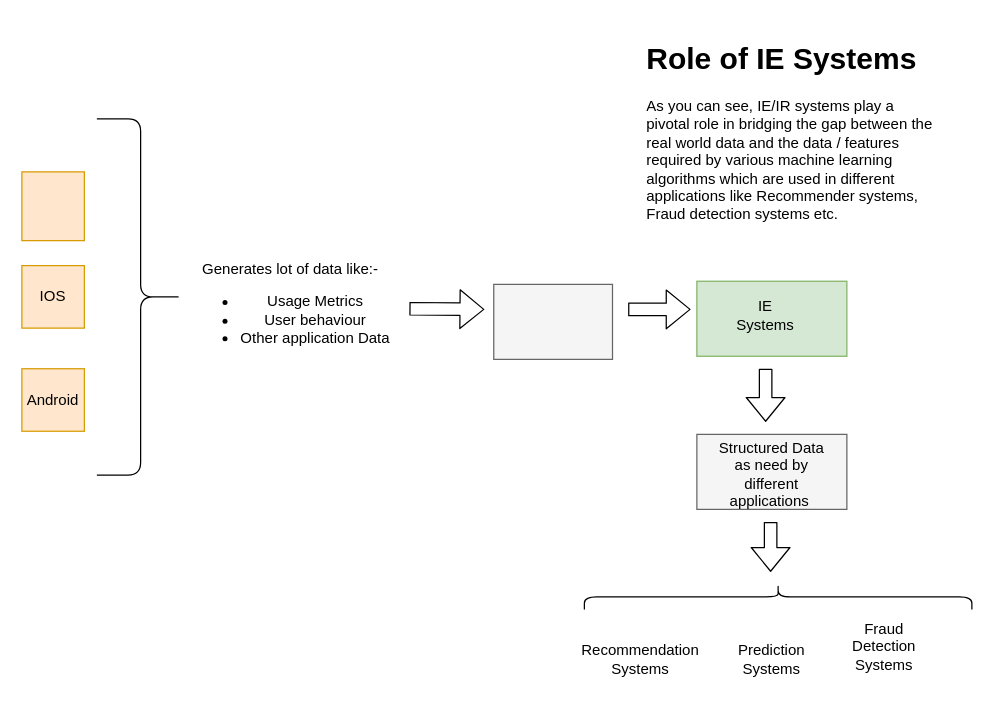
Image size: 994x718. Some labels were removed from this diagram. The shapes that lost their labels are listed below. From the top down, each one's centre as x and y in pixels, then its label:
At point 52,206: "Web".
At point 552,321: "Data Processing Pipelines".
